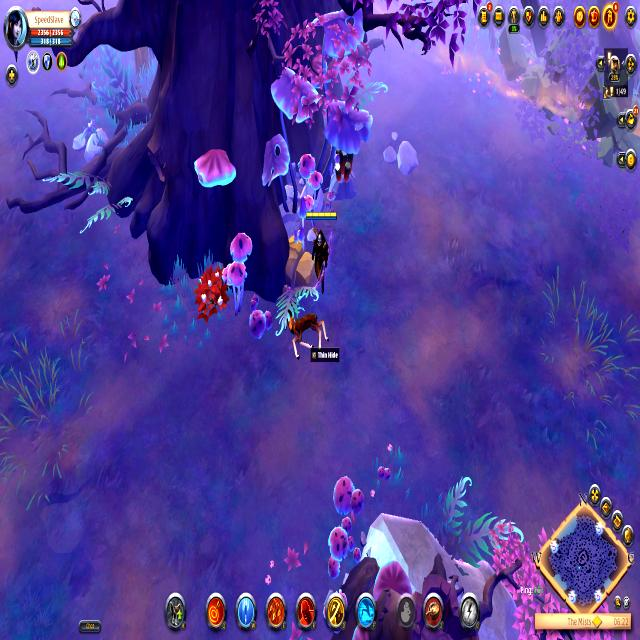hide: (191, 257, 232, 328)
mob: (278, 306, 342, 376)
red: (304, 206, 338, 294), (330, 142, 357, 192)
tree: (280, 230, 322, 300)
